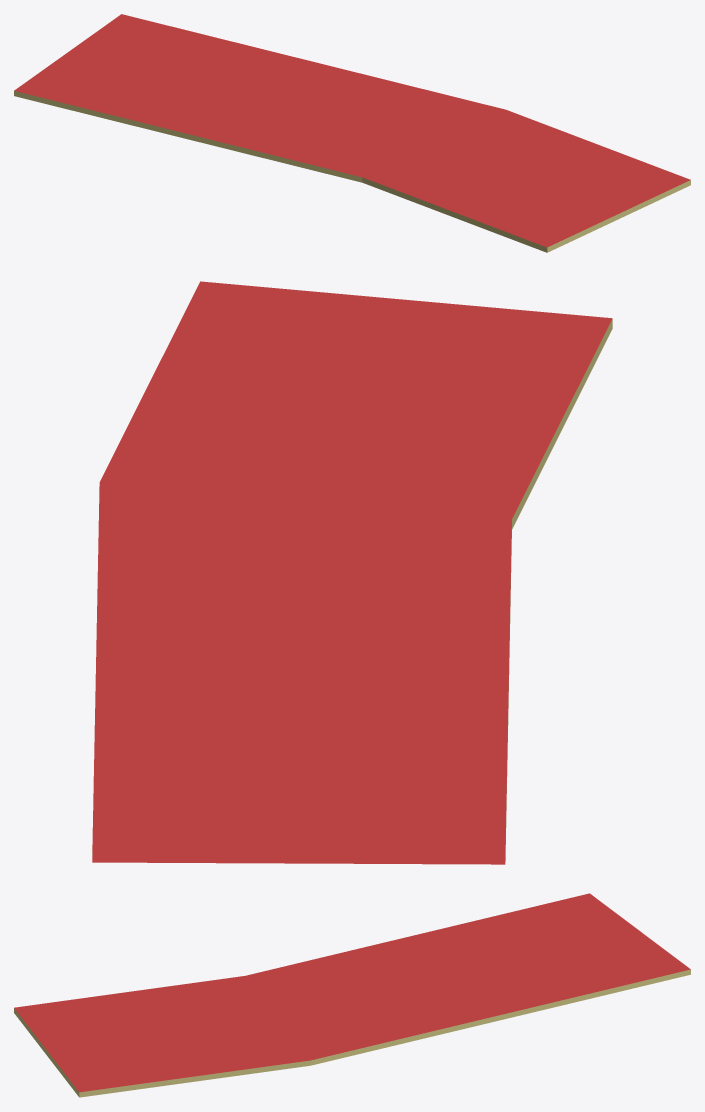
3 views of the same model, one above another, from view 1: azimuth 30°, elevation 25°; view 2: azimuth 150°, elevation 25°; view 3: azimuth 270°, elevation 25° (orthographic). The views are drawn at different scales.
Bounding box in the file's own units: 8.12 × 11.68 × 0.1.
